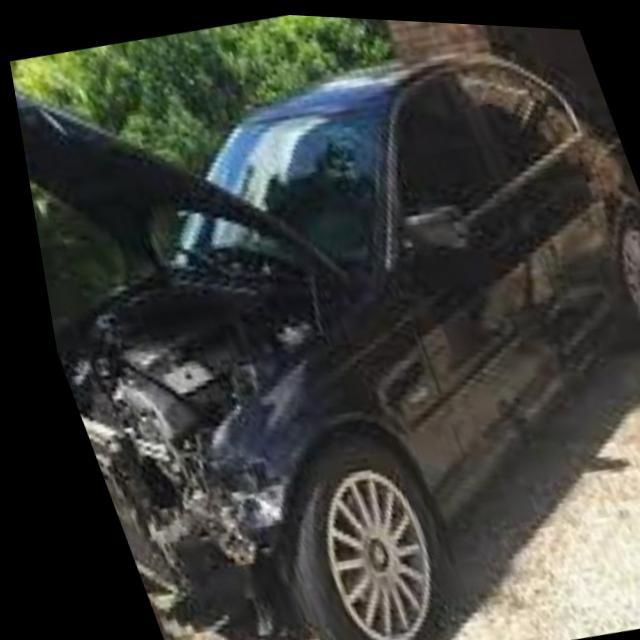no part: (51, 349, 293, 634)
